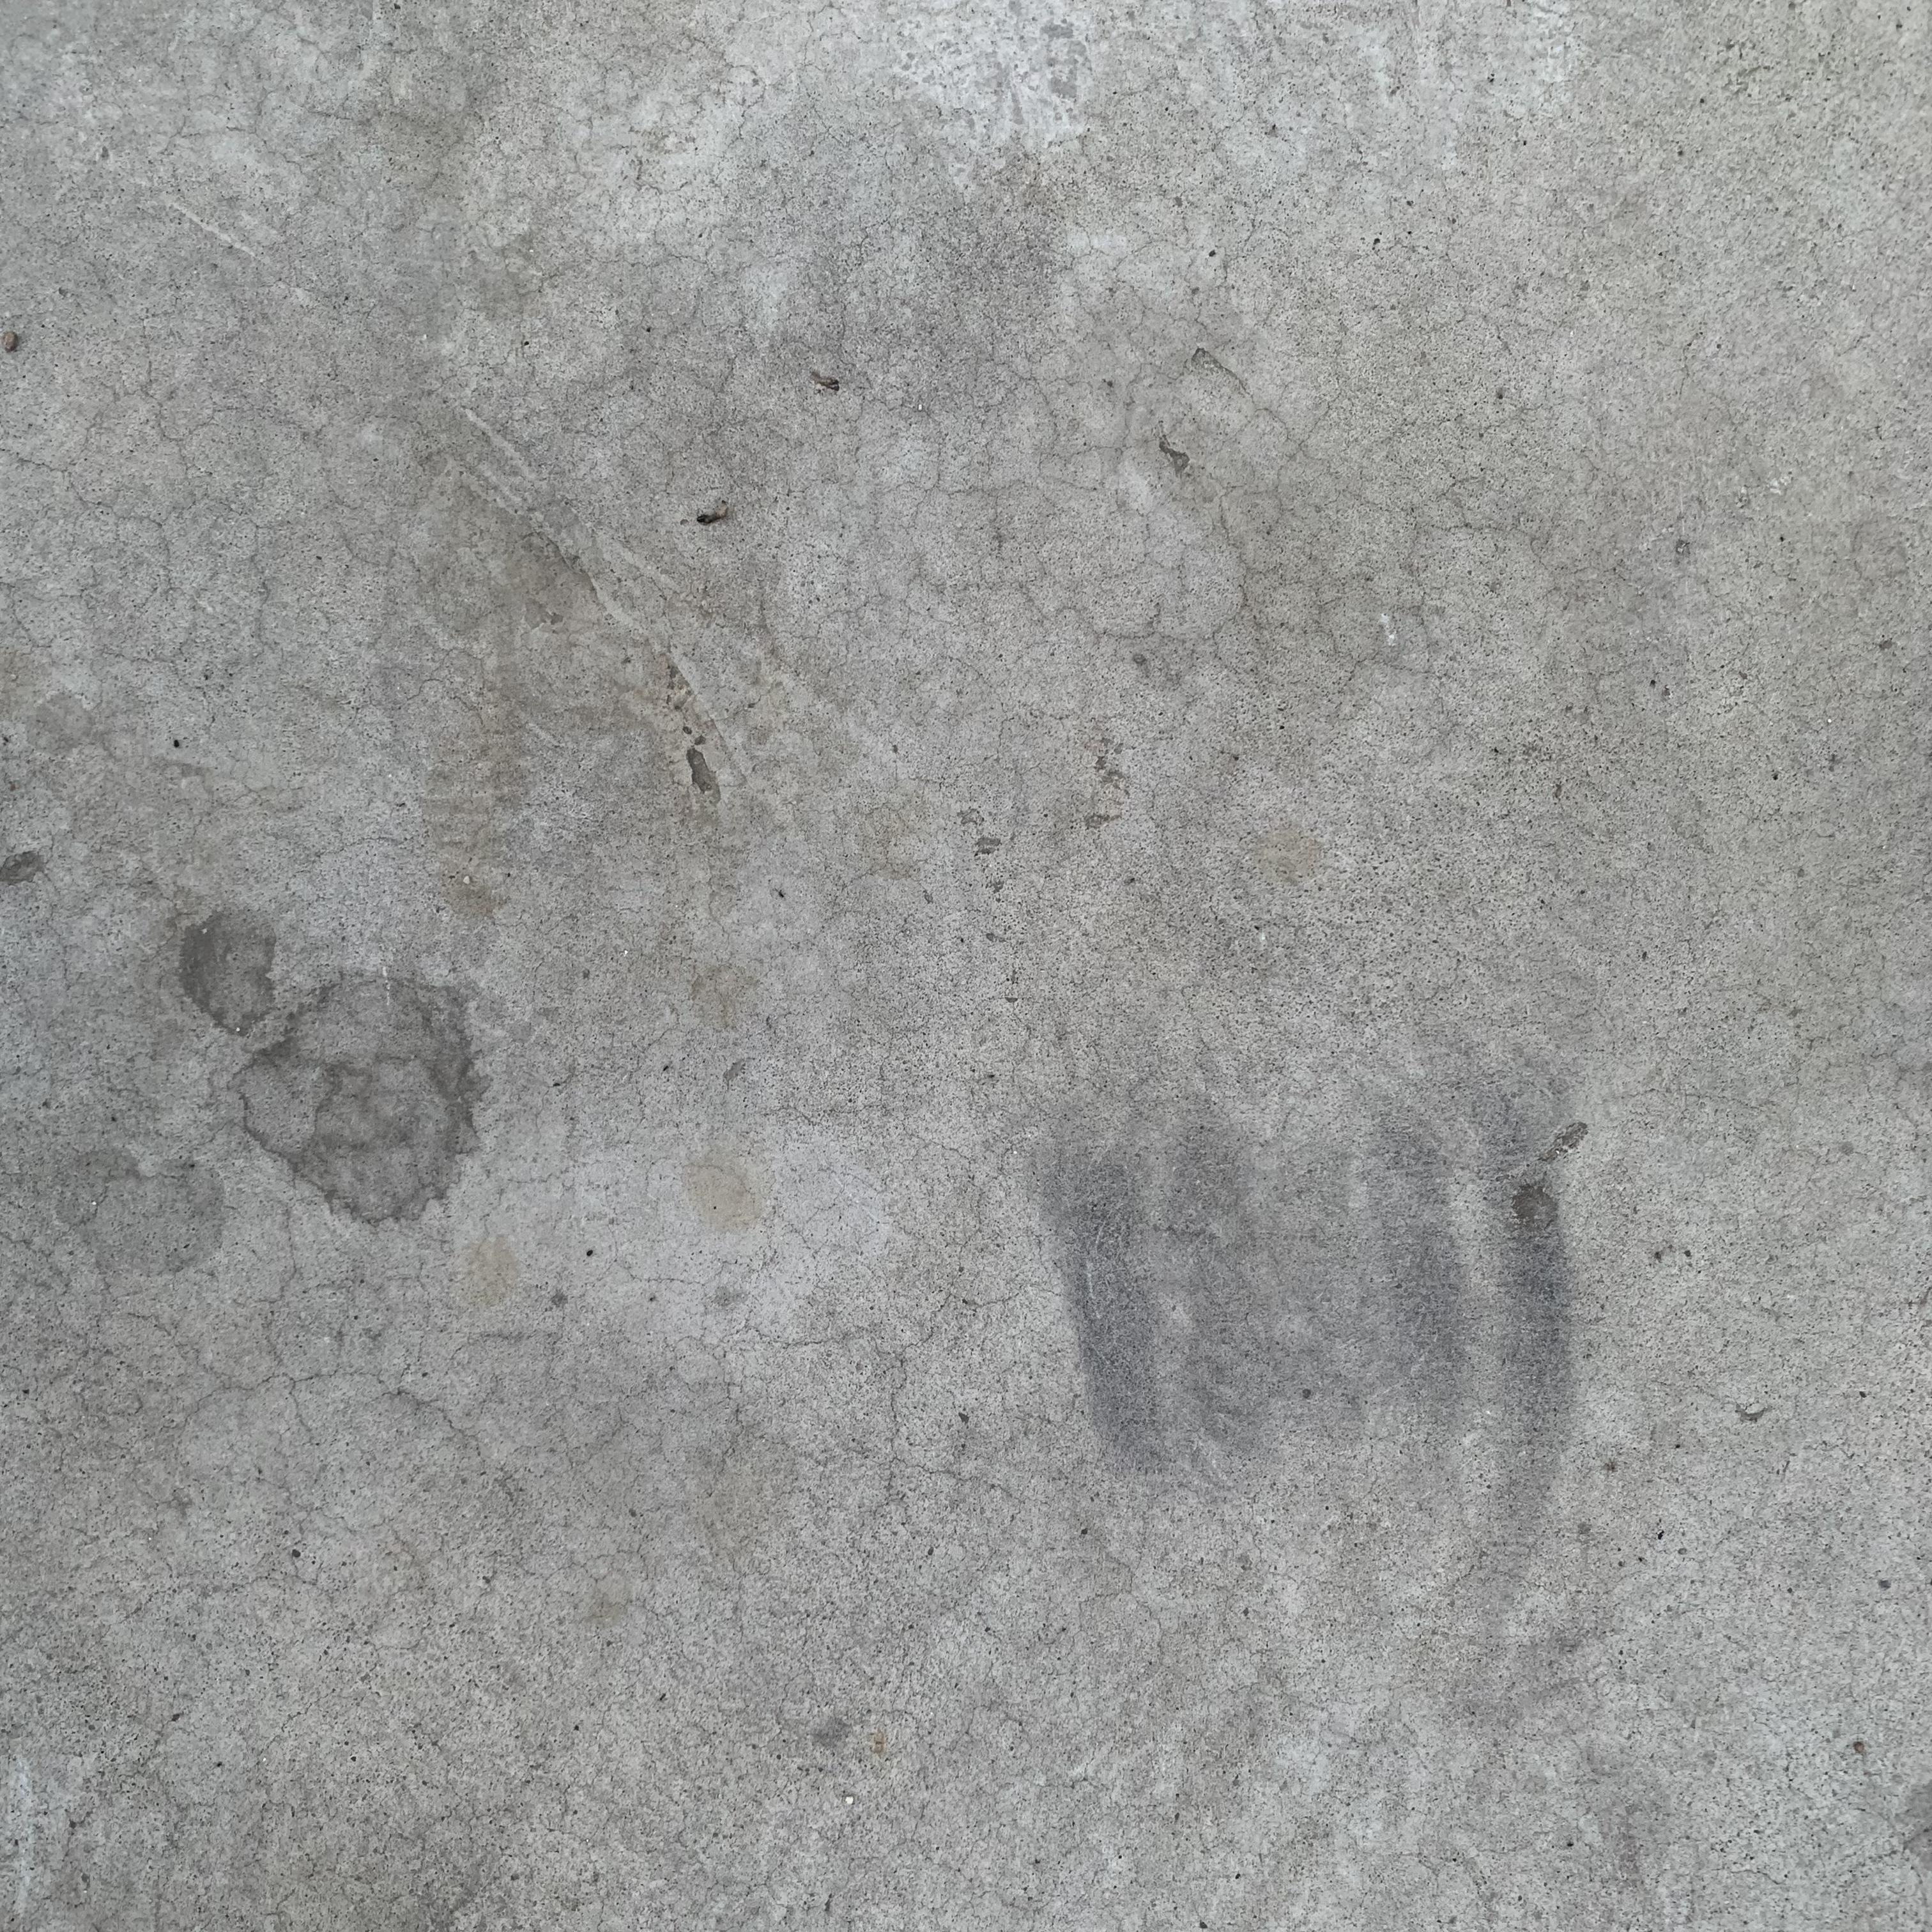grey spot: (228, 975, 490, 1231), (177, 909, 276, 1035)
